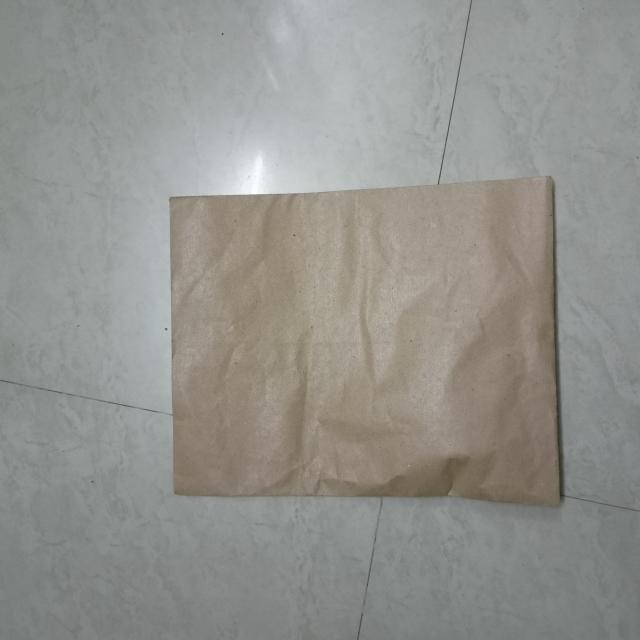box: (169, 175, 568, 504)
